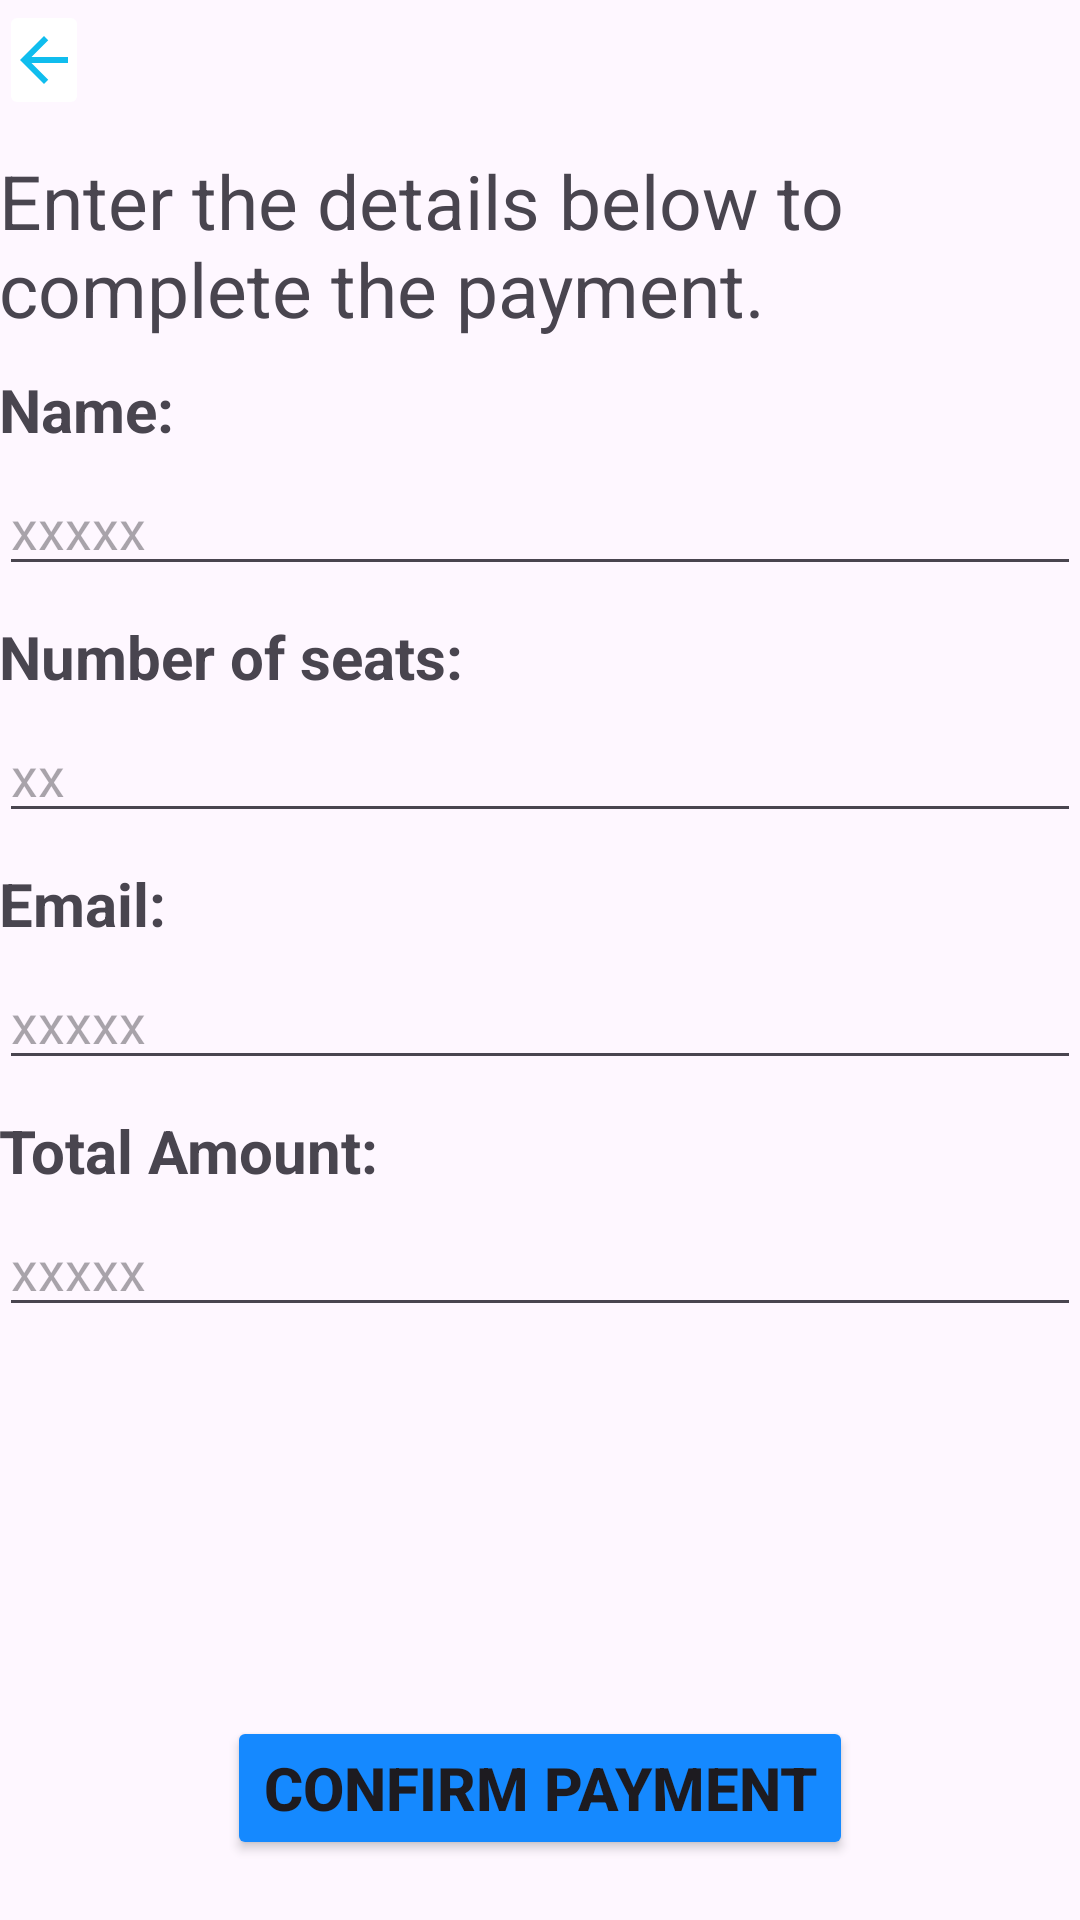

Screen size 1080x1920. Icon name, then its center in pixels as (x=x, y=y):
arrow back: (x=44, y=60)
